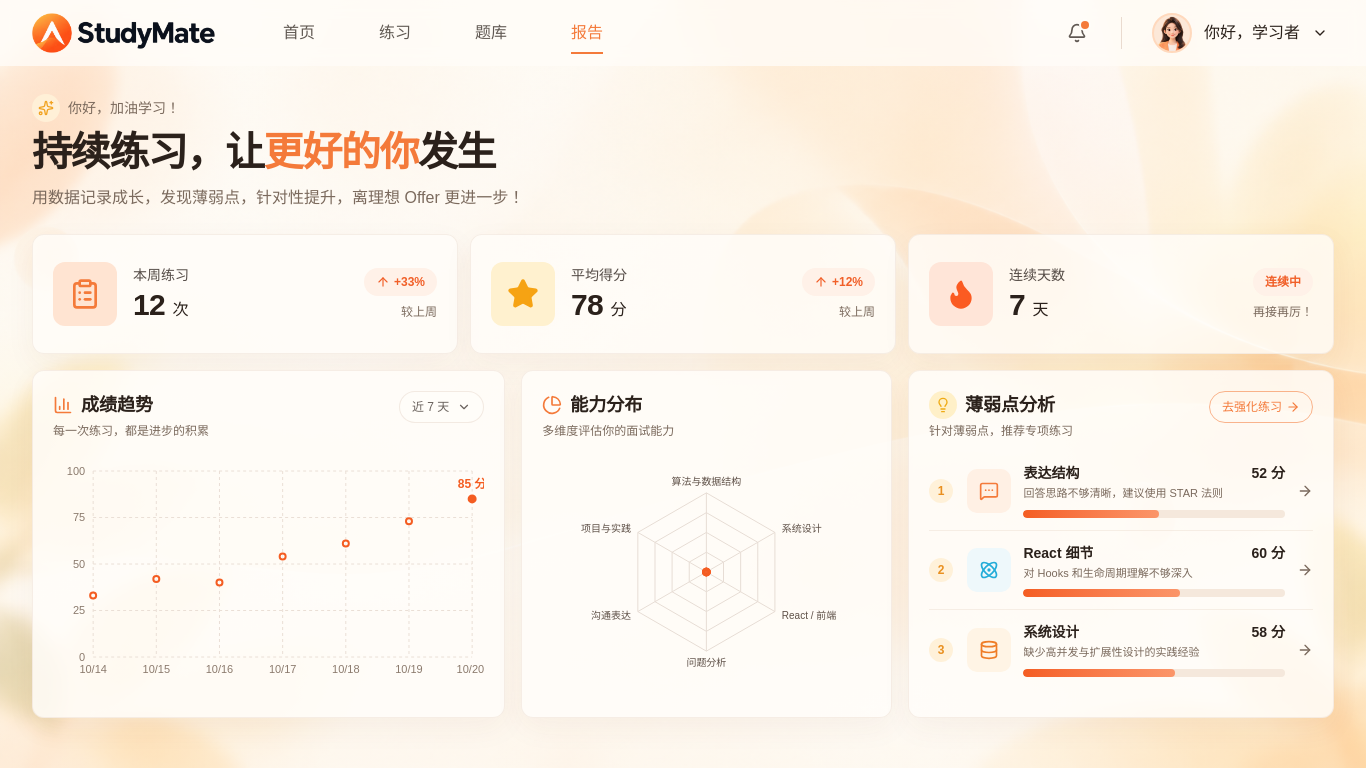
Test case: StudyMate home page › opens the authenticated user menu with account actions
Click the button with aria-label "打开用户菜单" at (1240, 33), box [1146, 7, 1334, 59]
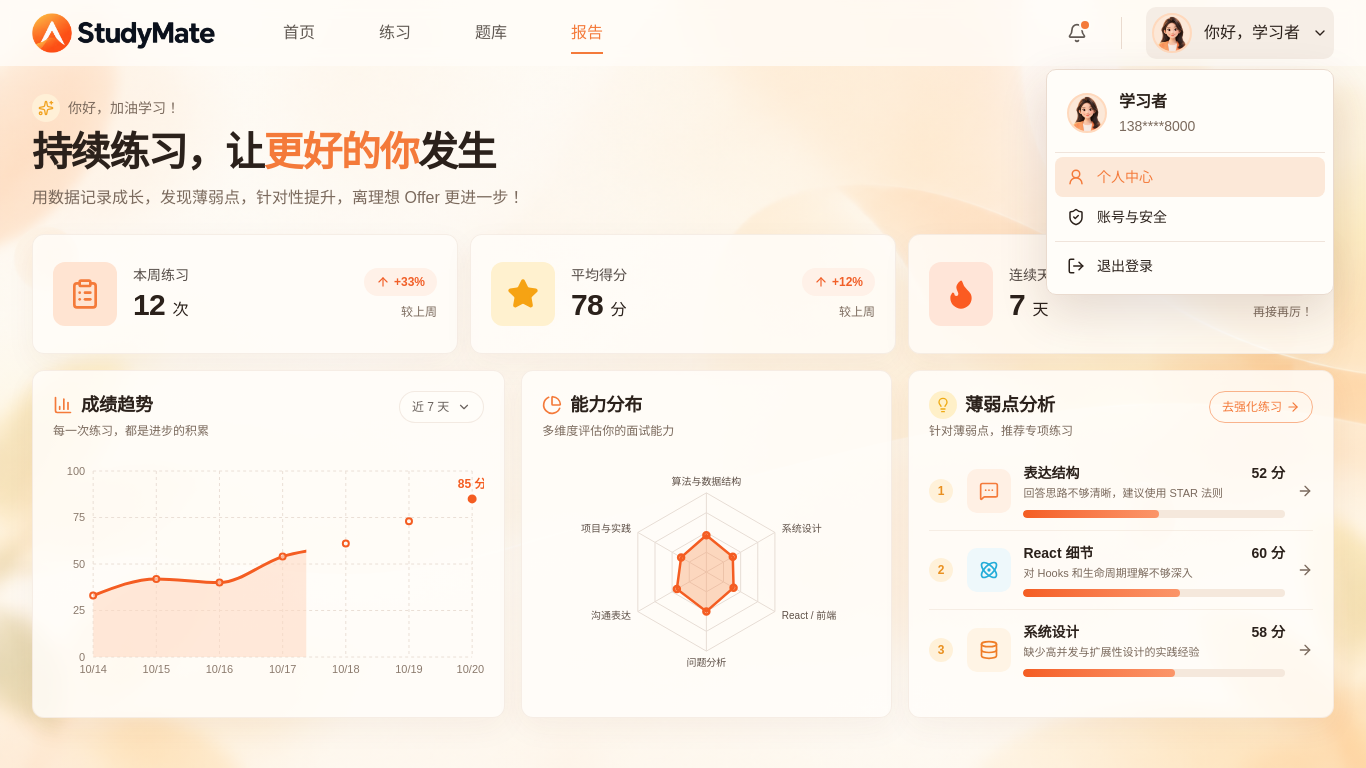
Expected: the text "学习者" is shown, [1119, 93, 1167, 110]
Expected: the text "138****8000" is shown, [1119, 116, 1195, 136]
